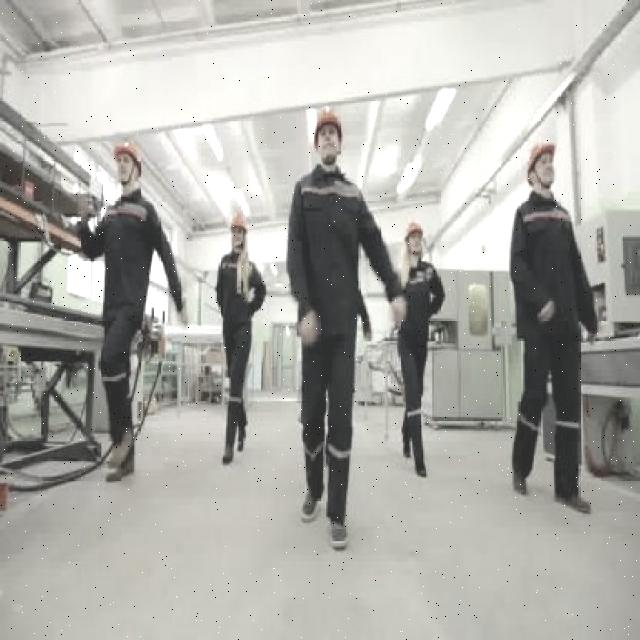Helmet: (312, 104, 346, 150), (526, 142, 556, 182), (113, 141, 142, 177), (402, 220, 424, 238), (230, 214, 247, 233)
Mask: (284, 167, 401, 526), (74, 191, 184, 452), (505, 193, 598, 494), (213, 253, 264, 456), (394, 260, 446, 445)
